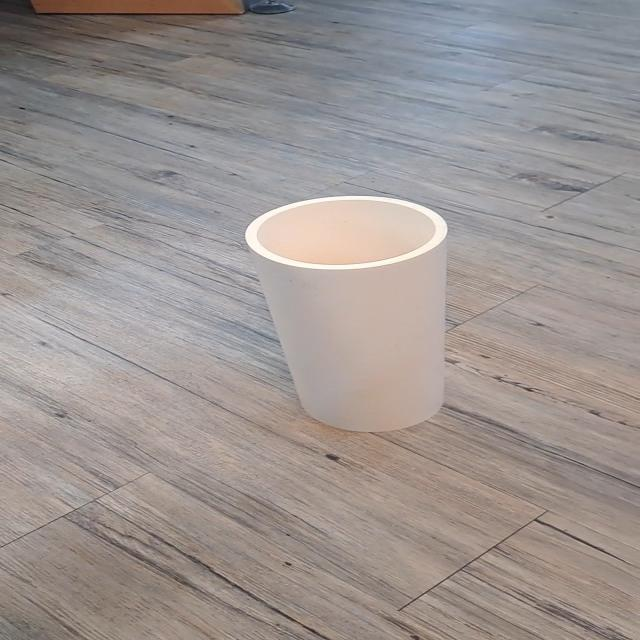CORAL: (208, 184, 502, 457)
